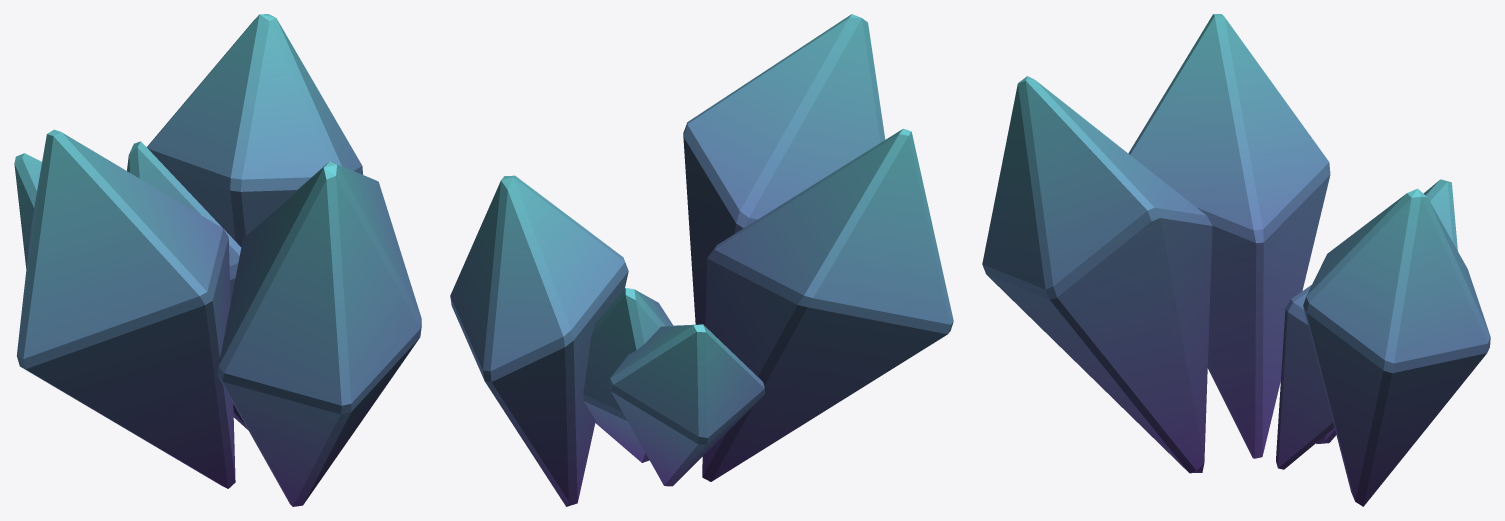
Rendered from cristal_aglomerado_a.fbx.
3 renders of one model, left to right at view 1: azimuth 30°, elevation 25°; view 2: azimuth 150°, elevation 25°; view 3: azimuth 270°, elevation 25°, orthographic. The views are drawn at different scales.
Parts seen in each view (by area): view 1: cristal_aglomerado_a; view 2: cristal_aglomerado_a; view 3: cristal_aglomerado_a.
Part boxes in pixels (bbox=[...]): cristal_aglomerado_a: bbox=[14, 14, 421, 506]; cristal_aglomerado_a: bbox=[450, 14, 953, 506]; cristal_aglomerado_a: bbox=[982, 14, 1490, 506].
Size of the model in its own units: 2.27 by 2.1 by 2.58.
